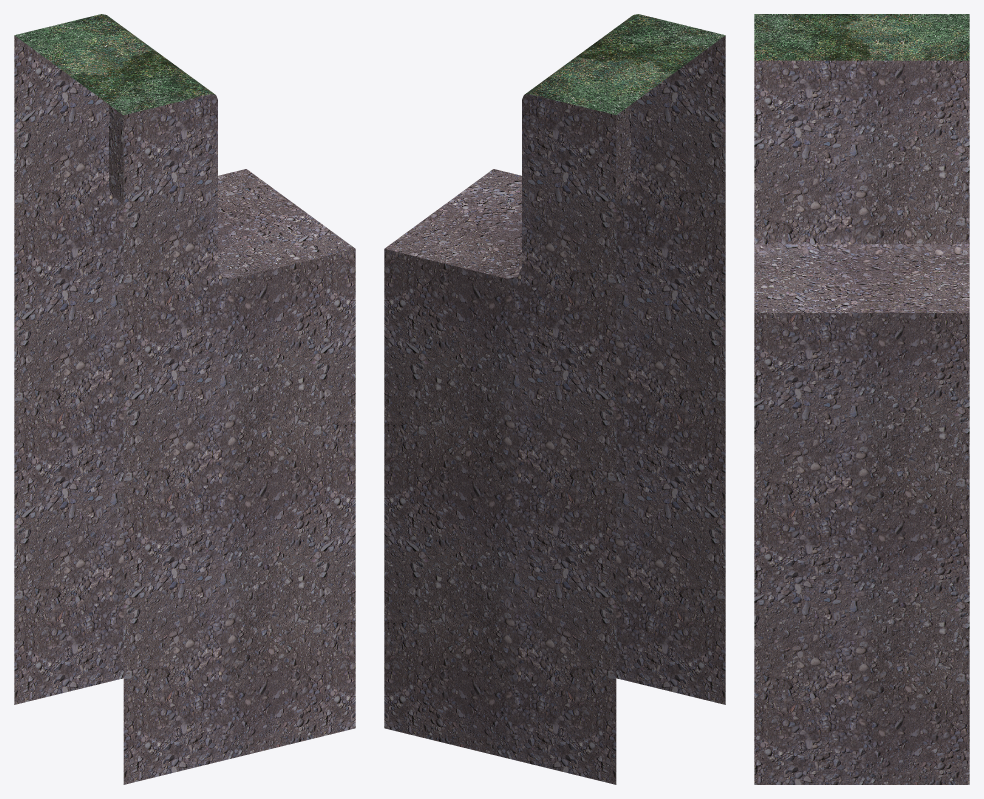
File: cliff_1.fbx
3 renders of one model, left to right at view 1: azimuth 30°, elevation 25°; view 2: azimuth 150°, elevation 25°; view 3: azimuth 270°, elevation 25°, orthographic.
Visible parts, largest first — view 1: grass_hilltop.002; view 2: grass_hilltop.002; view 3: grass_hilltop.002.
Boxes of the visible parts, left/top/right/bottom form: grass_hilltop.002: left=14, top=14, right=355, bottom=784; grass_hilltop.002: left=384, top=14, right=725, bottom=784; grass_hilltop.002: left=754, top=14, right=969, bottom=784.
Bounding box in the file's own units: 981 × 2705 × 800.
